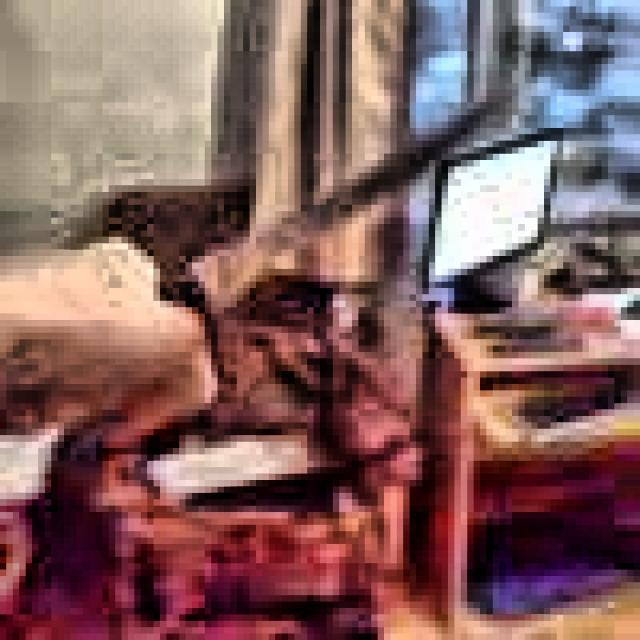knife: (163, 101, 500, 318)
